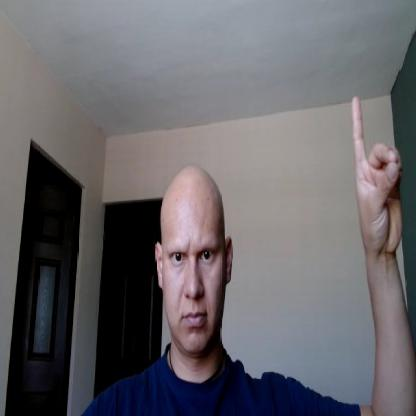D: (350, 92, 404, 254)
